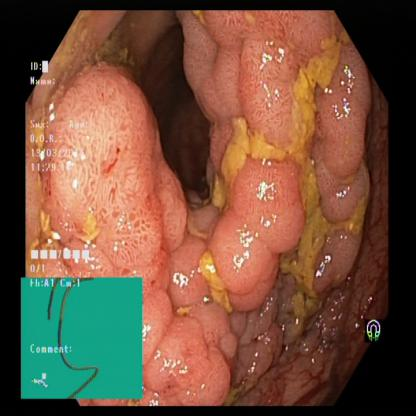Labels: (22, 275, 144, 400), (28, 60, 95, 278), (359, 308, 391, 349)
Polyps: (63, 83, 178, 257), (203, 158, 324, 298), (319, 160, 384, 289), (307, 53, 376, 163)
